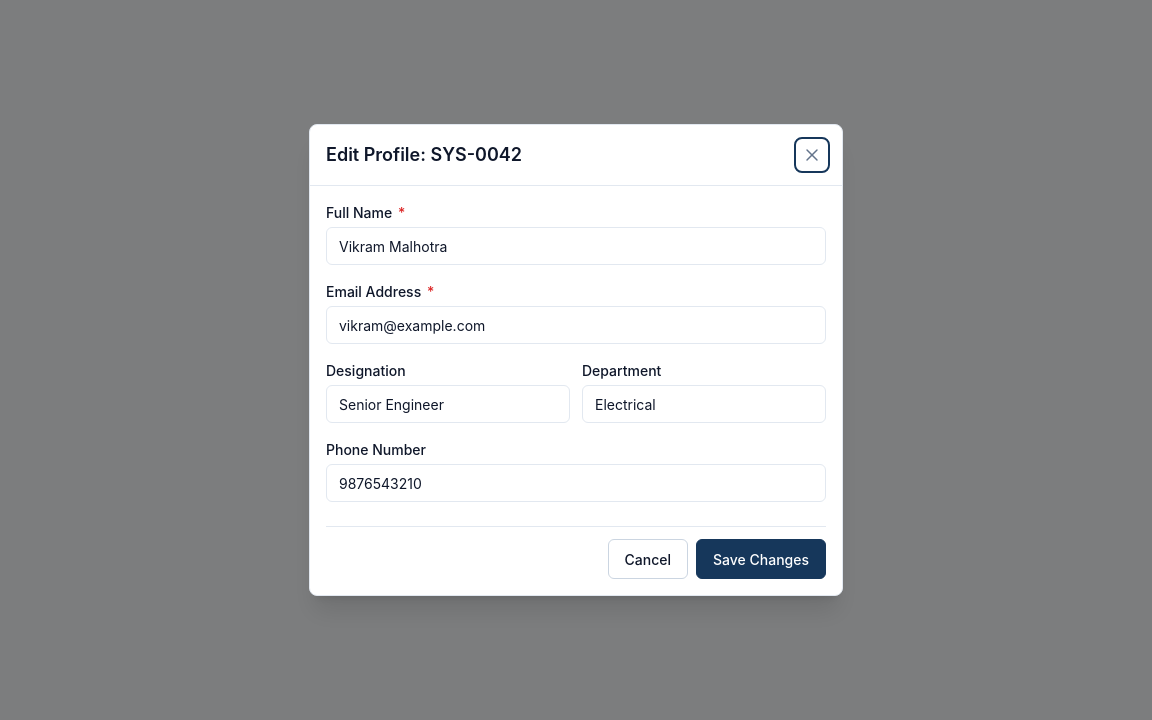
Test: EditEmployeeModal › displays server error message on update failure
Click the button with test id "edit-emp-submit-btn" at (761, 559), box [696,539,826,579]
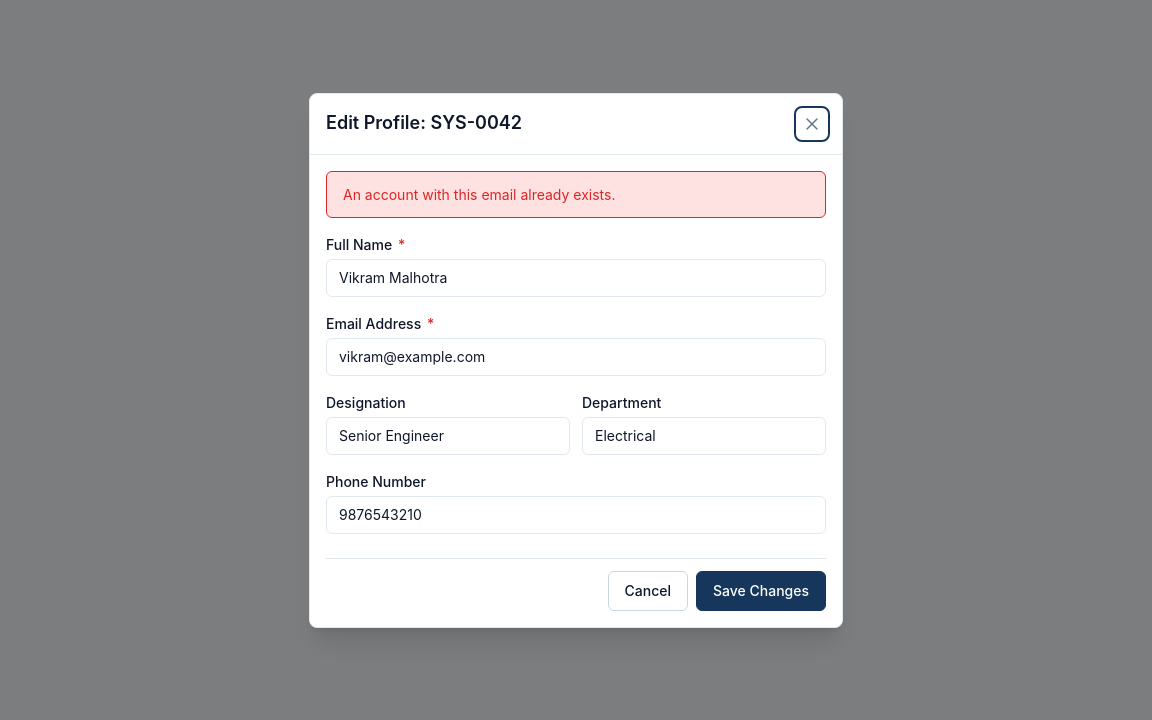
Expected: the message with test id "edit-employee-error" reads "An account with this email already exists.", [343,186,616,202]
